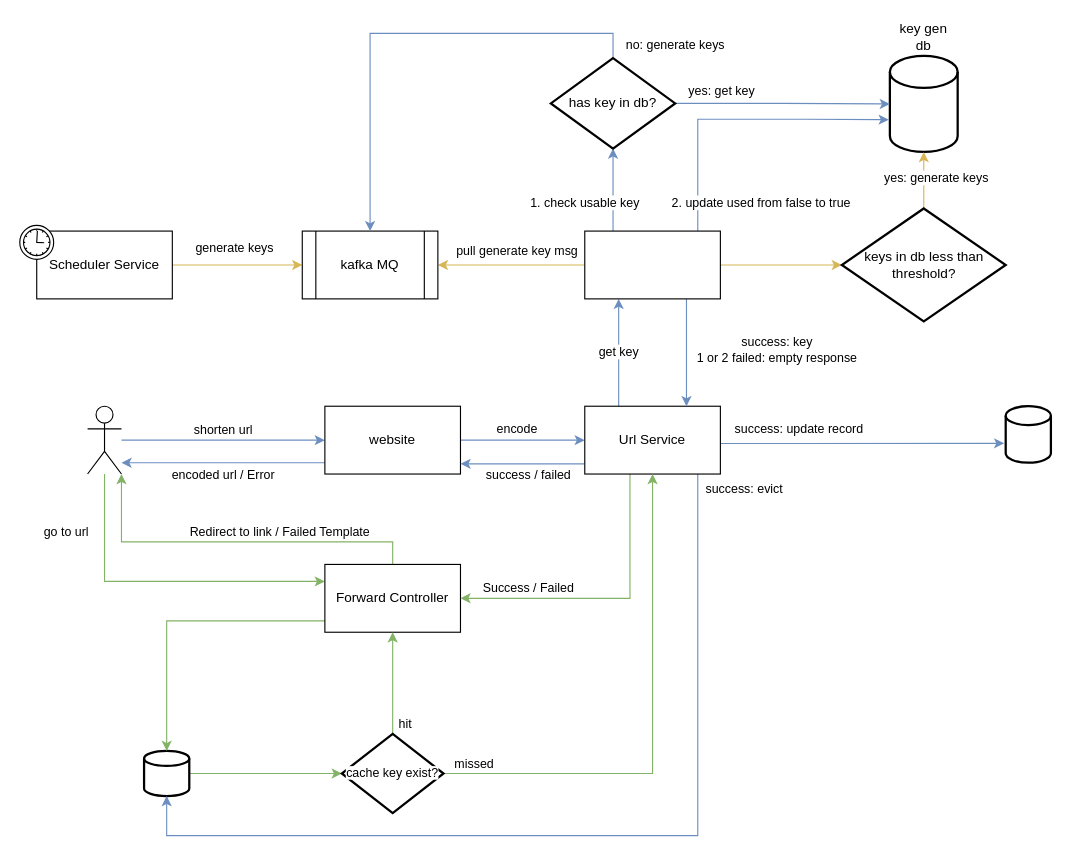
This 1071x864 diagram has some shape labels left out. The centre of each missing label's shape, as x and y in pixels:
cache: (166,773)
Key Gen Service: (652,264)
url db: (1027,434)
User: (103,439)
